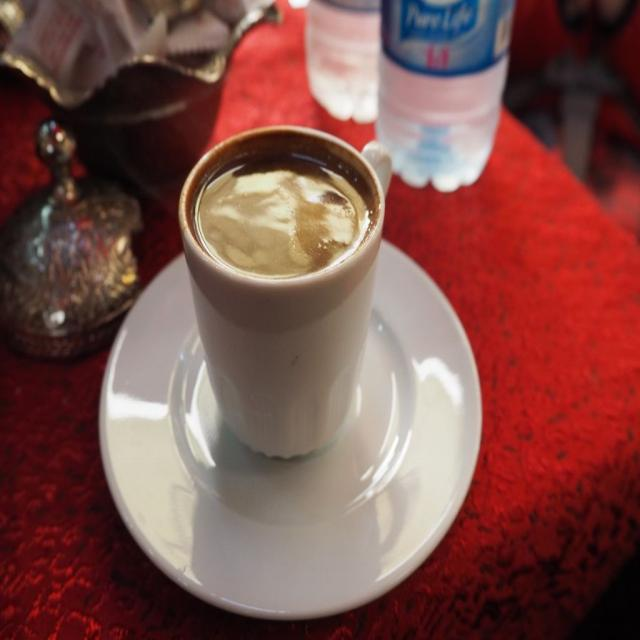Coffee: (186, 132, 380, 278)
